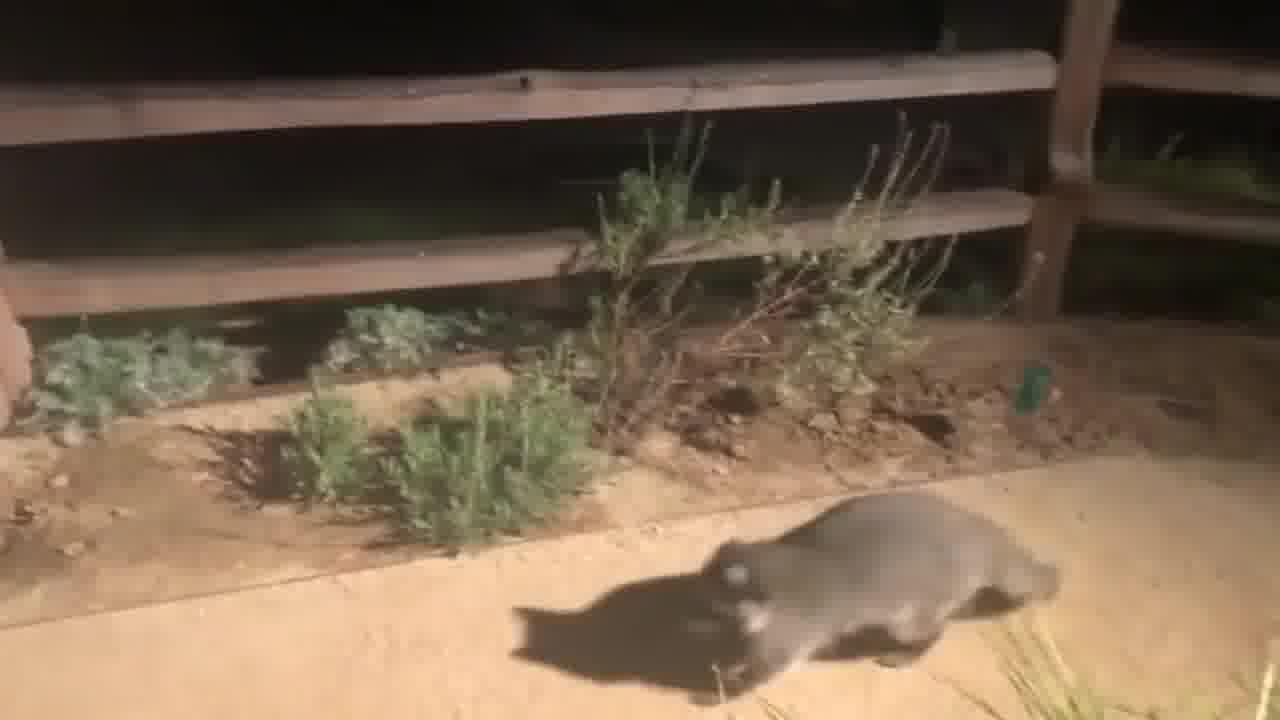raccoon: (677, 476, 1071, 703)
